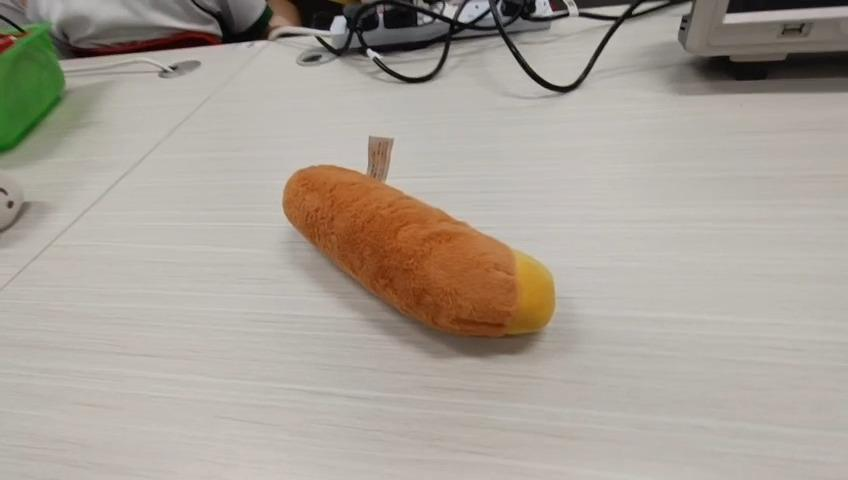hotdog: (281, 162, 556, 338)
